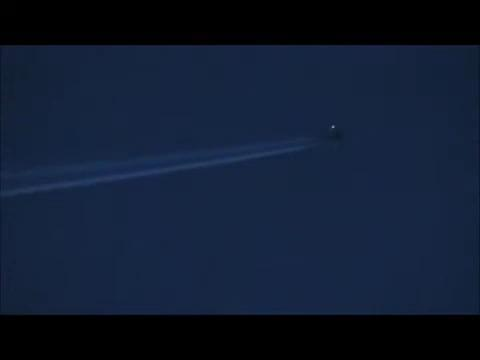Plane: (125, 113, 365, 196)
